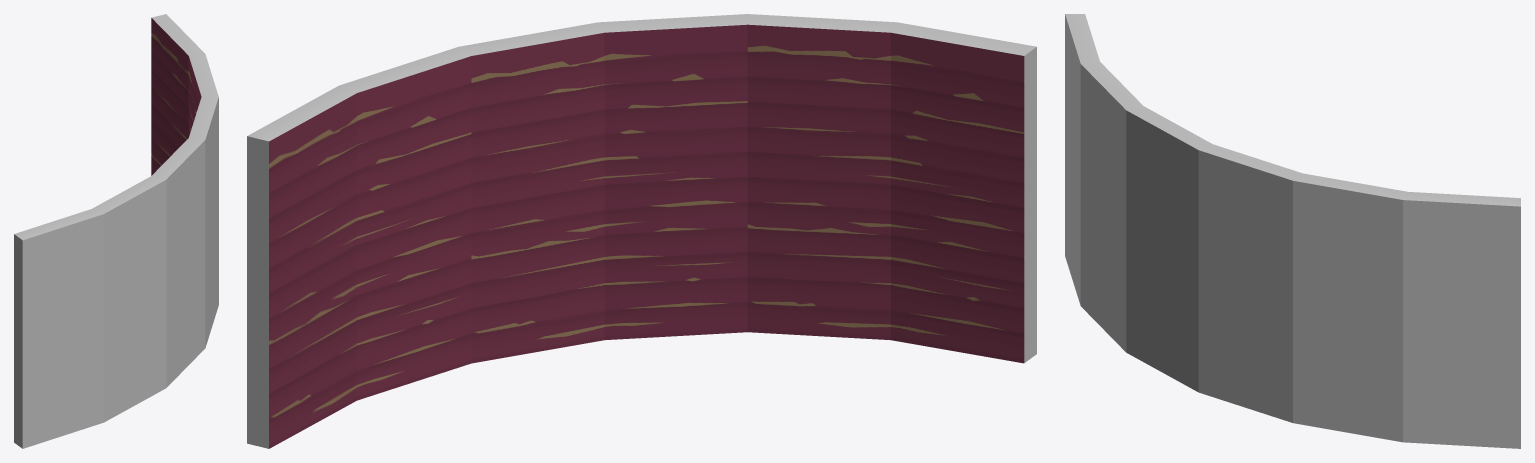
The model's file is SM_Bld_Wall_Curved_L_01_Collision.fbx.
3 renders of one model, left to right at view 1: azimuth 30°, elevation 25°; view 2: azimuth 150°, elevation 25°; view 3: azimuth 270°, elevation 25°, orthographic. The views are drawn at different scales.
Parts seen in each view (by area): view 1: SM_Bld_Wall_Curved_L_01_Collision; view 2: SM_Bld_Wall_Curved_L_01_Collision; view 3: SM_Bld_Wall_Curved_L_01_Collision.
Boxes of the visible parts, x1,y1,x2,y2 form: SM_Bld_Wall_Curved_L_01_Collision: (14,14,218,448); SM_Bld_Wall_Curved_L_01_Collision: (247,14,1036,448); SM_Bld_Wall_Curved_L_01_Collision: (1065,14,1520,448).
Bounding box in the file's own units: 511 × 300 × 511.
